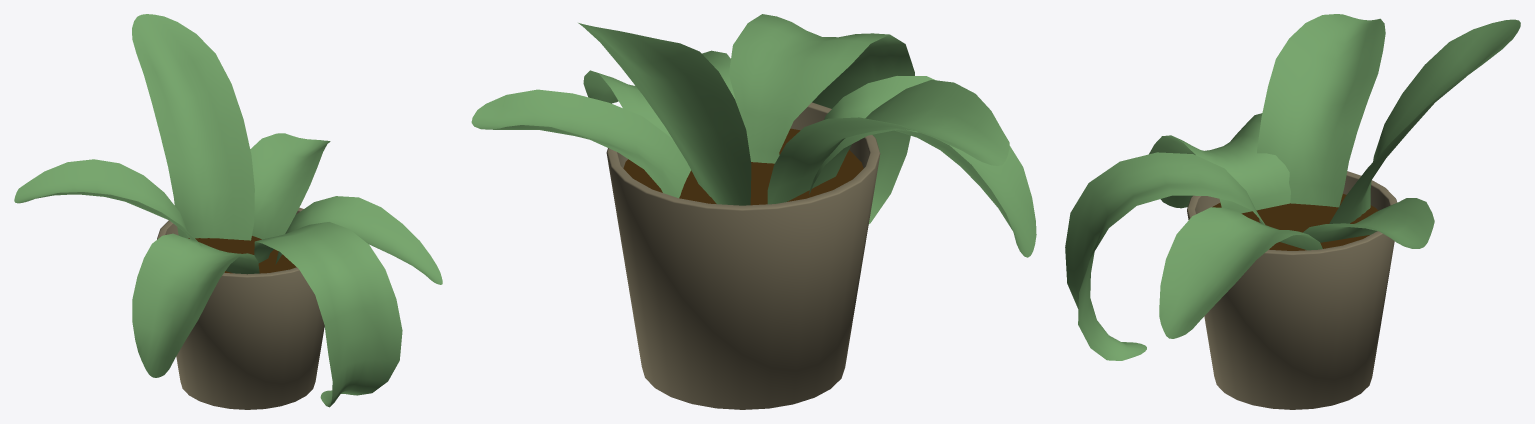
File: PlantInPot.fbx
3 renders of one model, left to right at view 1: azimuth 30°, elevation 25°; view 2: azimuth 150°, elevation 25°; view 3: azimuth 270°, elevation 25°, orthographic. The views are drawn at different scales.
Parts seen in each view (by area): view 1: ModelPlantInPot; view 2: ModelPlantInPot; view 3: ModelPlantInPot.
Part boxes in pixels (x1=…): ModelPlantInPot: x1=14, y1=14, x2=442, y2=409; ModelPlantInPot: x1=471, y1=14, x2=1036, y2=409; ModelPlantInPot: x1=1065, y1=14, x2=1520, y2=409.
Size of the model in its own units: 88.67 by 72.32 by 85.77.
